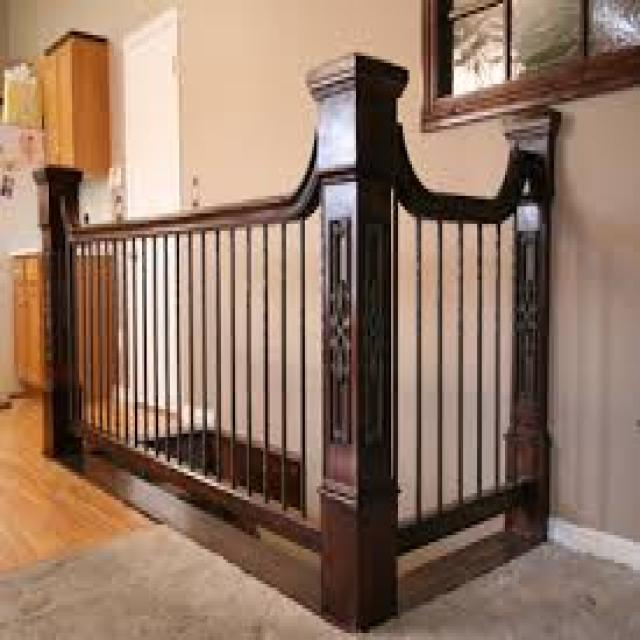Woods: (44, 52, 552, 633)
